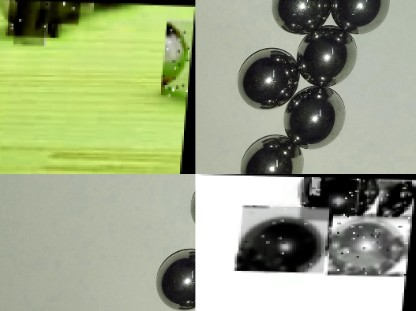ironball: (237, 206, 329, 273), (328, 214, 412, 276), (279, 79, 344, 146), (241, 48, 297, 110), (301, 30, 362, 83), (300, 176, 368, 221), (242, 129, 304, 176), (161, 17, 194, 95), (155, 241, 194, 307), (326, 0, 390, 32), (6, 0, 59, 37), (270, 0, 324, 32), (376, 178, 415, 222), (38, 0, 80, 24)
